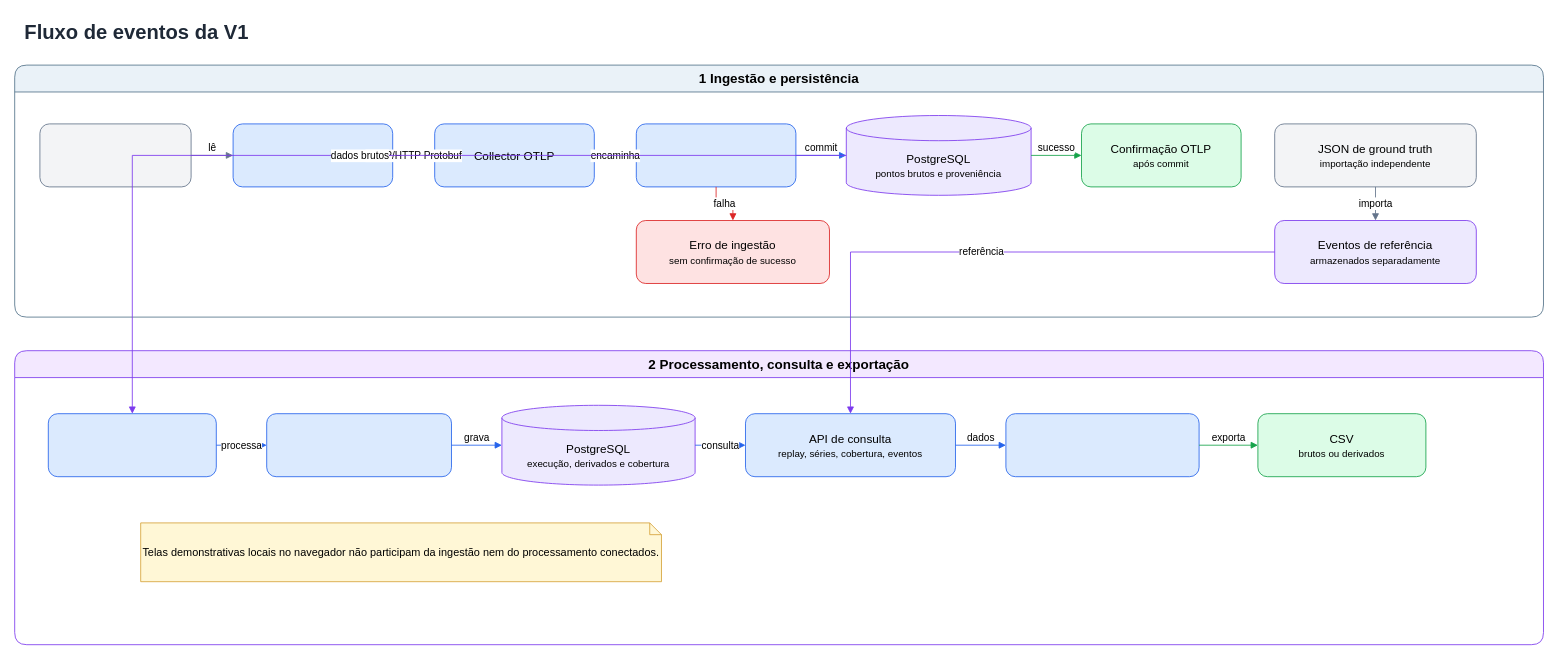
Image size: 1558x659. Some labels were removed from this diagram. Each missing label, with the centre of its shape:
CSV métrico arquivo de origem: (115,155)
Dashboard e detalhe valores, cobertura e falhas: (1102,445)
Receiver FastAPI valida e grava o lote: (715,155)
Rotina batch lê pontos persistidos: (131,445)
Runner do replay preserva tempo e origem: (312,155)
Transformação versionada valores e cobertura: (359,445)
